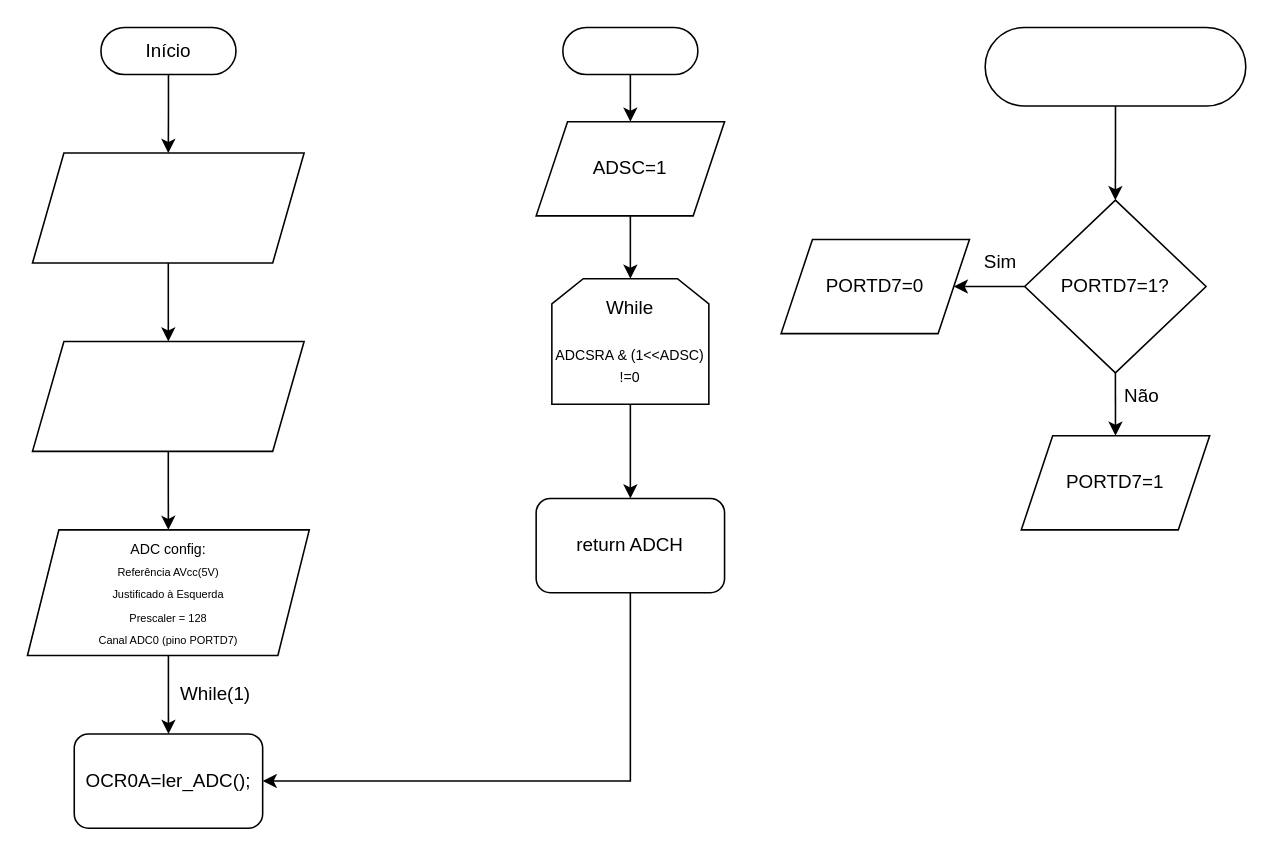
Image size: 1273x856. Some labels were removed from this diagram. Here are the shapes that lost their labels. From the top down, the centre of each, then its label:
the point at 629,50: ler_ADC()
the point at 1115,66: ISR(TIMER1_COMPA_vect)
the point at 167,207: Timer1 config: Modo CTC Prescaler = 256 OCR1A=3124 9 (1Hz@16Mhz)
the point at 167,395: Timer0 config: Modo Fast PWM Prescaler = 1024 OCR0A=0
